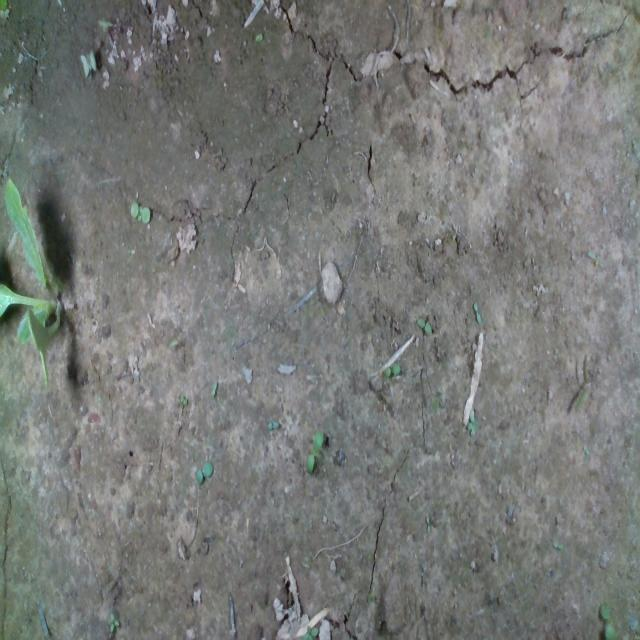weed: (305, 428, 324, 474), (193, 458, 214, 485), (129, 198, 151, 223), (416, 315, 432, 335), (108, 611, 120, 632), (472, 302, 482, 324), (265, 419, 279, 431), (210, 378, 218, 396), (179, 392, 187, 404), (594, 252, 600, 268)
